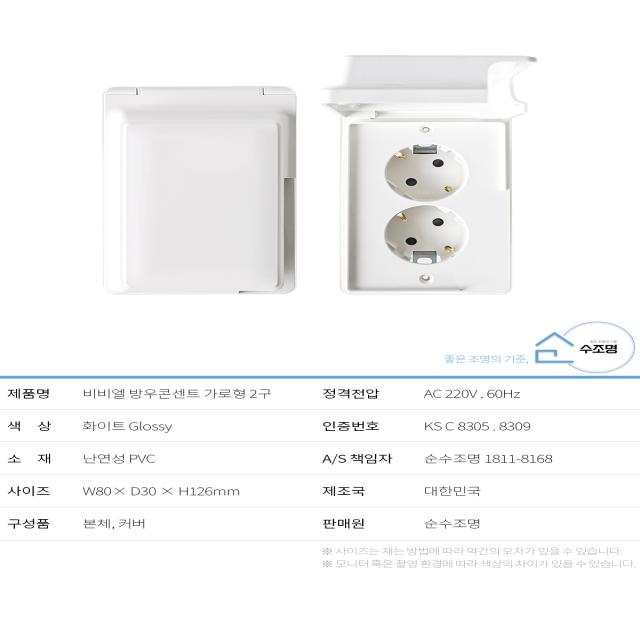typeb: (351, 125, 527, 312)
